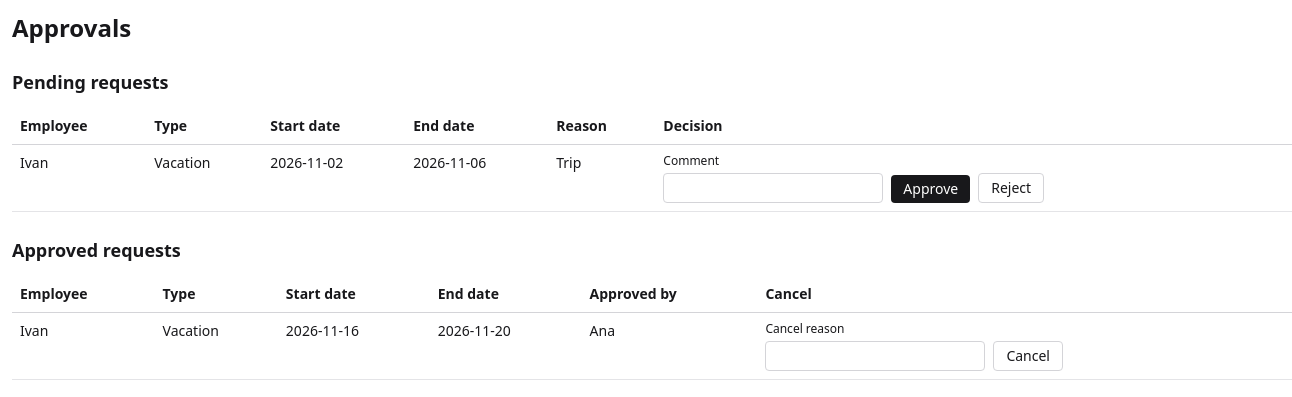
it: ApprovalsScreen, Approved requests (T8.1) › Comment in a pending row and Cancel reason in an approved row are separate fields
Type "pending comment" into the field labelled "Comment" at (773, 188), box [663,173,883,203]
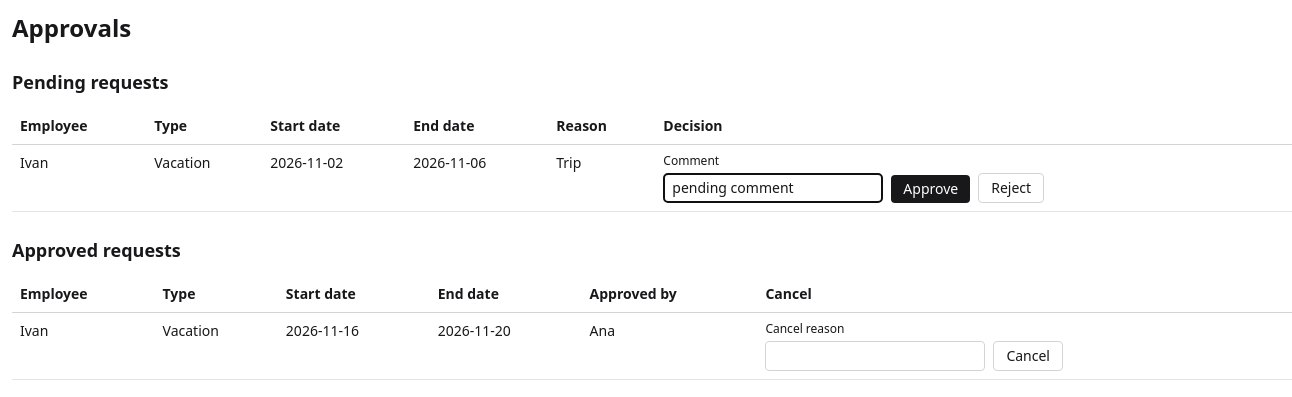
Type "Plans changed" into the field labelled "Cancel reason" at (875, 356), box [765,341,985,371]
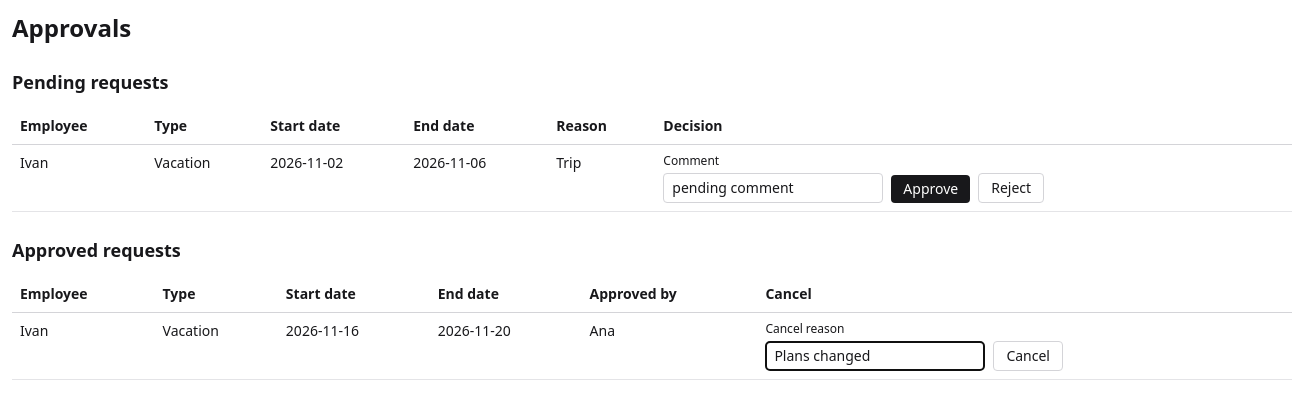
Click the button "Cancel" at (1028, 356), box [993,341,1063,371]
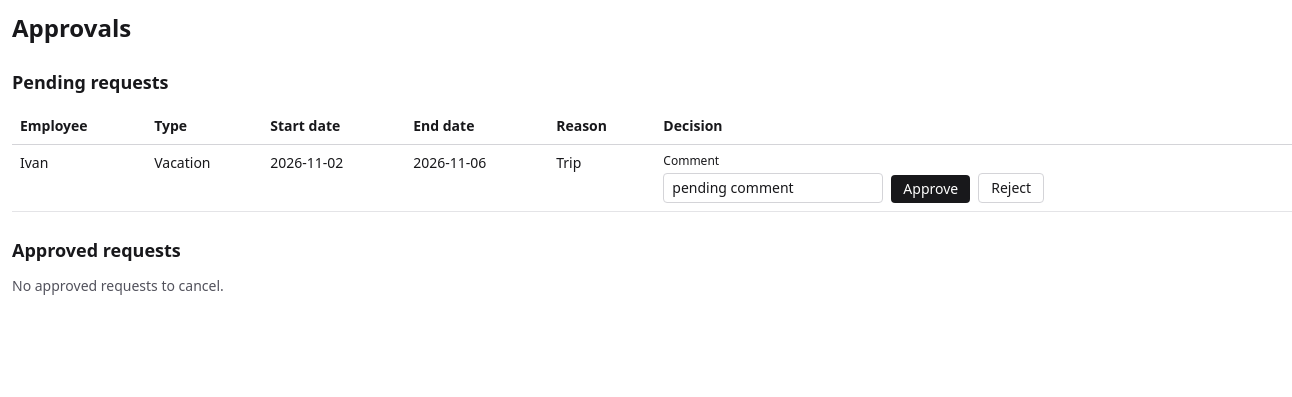
expect the text "No approved requests to cancel." is shown: met, box [12,276,224,295]
